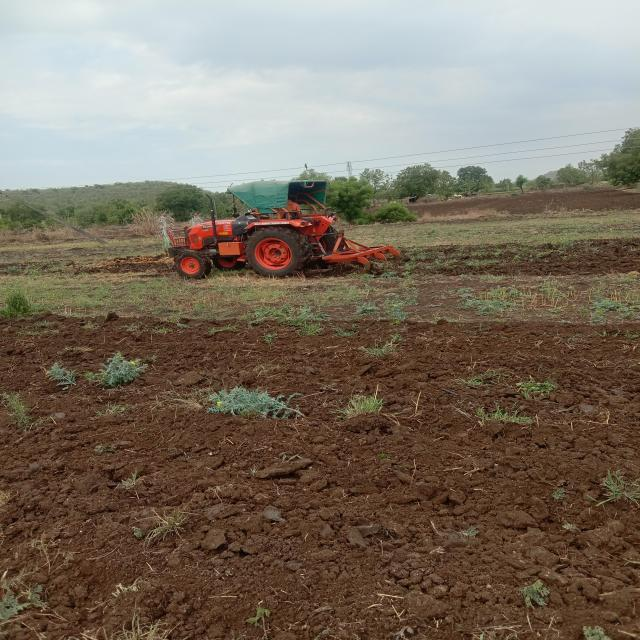Tractot: (142, 205, 432, 274)
